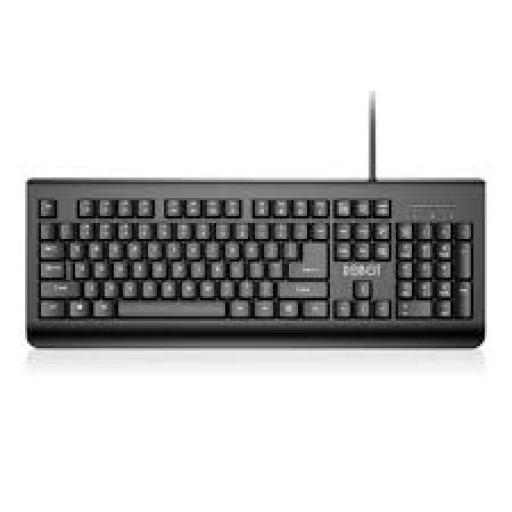KEYBOARD-2: (25, 98, 482, 346)
